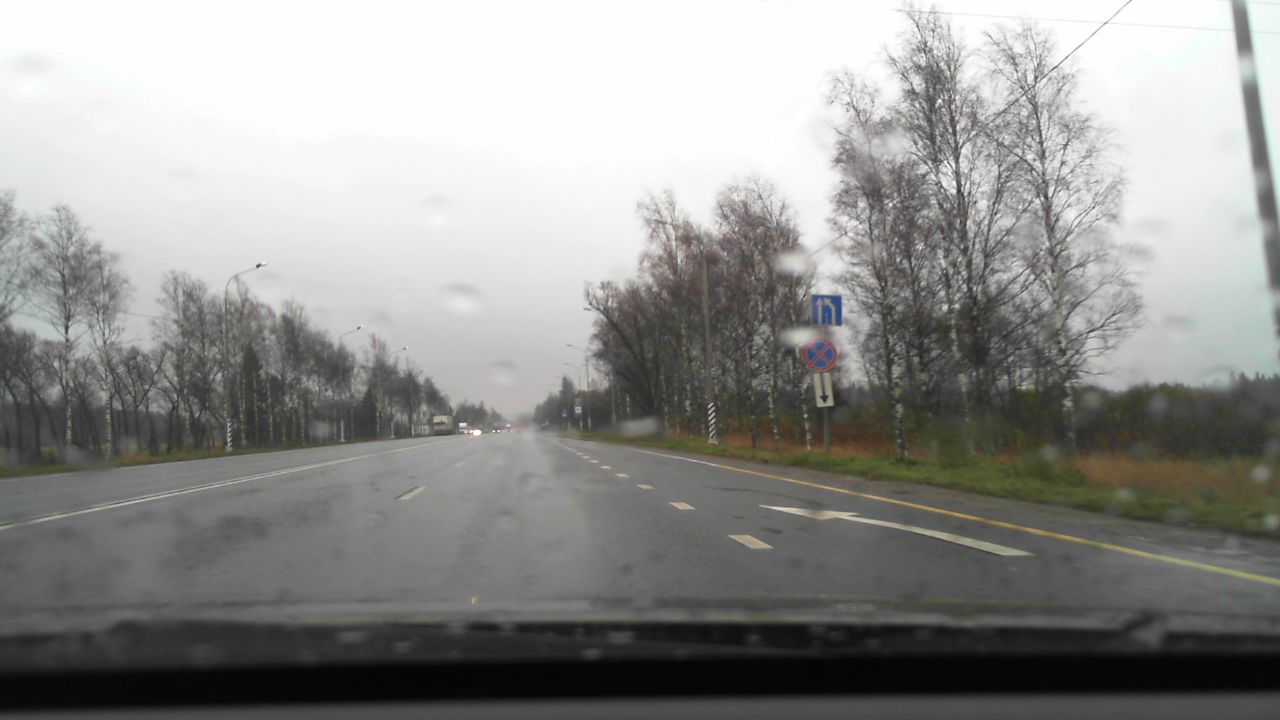No Parking: (801, 337, 837, 372)
